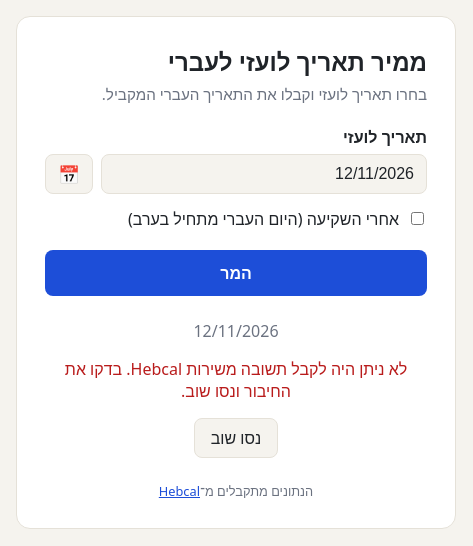
it: App › shows an error with a retry button when Hebcal is unreachable
Expected: the text "לא ניתן היה לקבל תשובה משירות Hebcal. בדקו את החיבור ונסו שוב." is shown, [45,358,427,402]
Click the button "נסו שוב": coordinates (236, 438) [194,418,278,458]
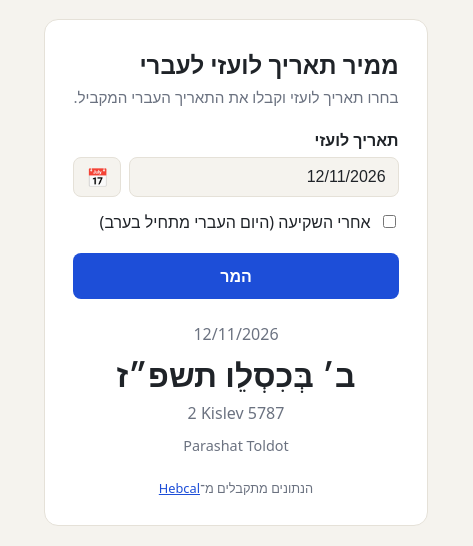
Expected: the text "ב׳ בְּכִסְלֵו תשפ״ז" is shown, [116,352,356,396]
